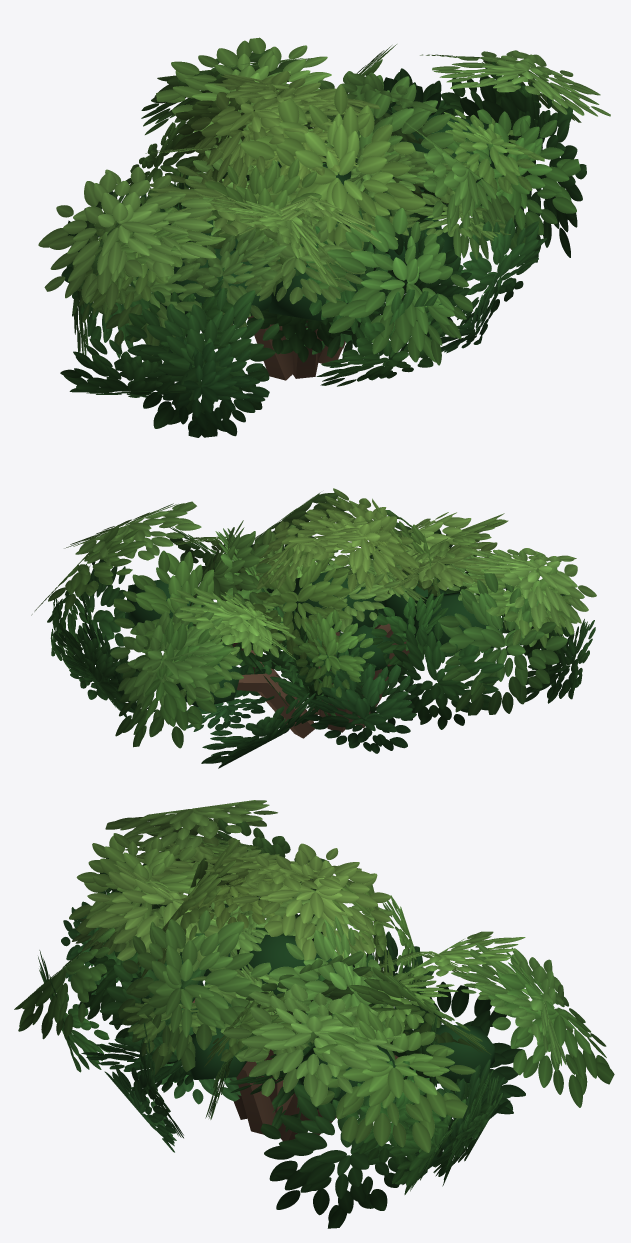
The model's file is bush_low.gltf.
The picture shows the model from 3 angles, top to bottom: view 1: azimuth 30°, elevation 25°; view 2: azimuth 150°, elevation 25°; view 3: azimuth 270°, elevation 25°; orthographic projection. The views are drawn at different scales.
Visible parts, largest first — view 1: Leaves_summer, Stems; view 2: Leaves_summer, Stems; view 3: Leaves_summer, Stems.
Part boxes in pixels (x1=…): Leaves_summer: x1=38, y1=37, x2=610, y2=437; Stems: x1=248, y1=315, x2=345, y2=380; Leaves_summer: x1=31, y1=488, x2=596, y2=768; Stems: x1=221, y1=623, x2=409, y2=738; Leaves_summer: x1=14, y1=800, x2=614, y2=1228; Stems: x1=192, y1=998, x2=398, y2=1141.
Bounding box in the file's own units: 1.99 × 0.9318 × 1.71.
Materials: 2 (1 with a texture image).
